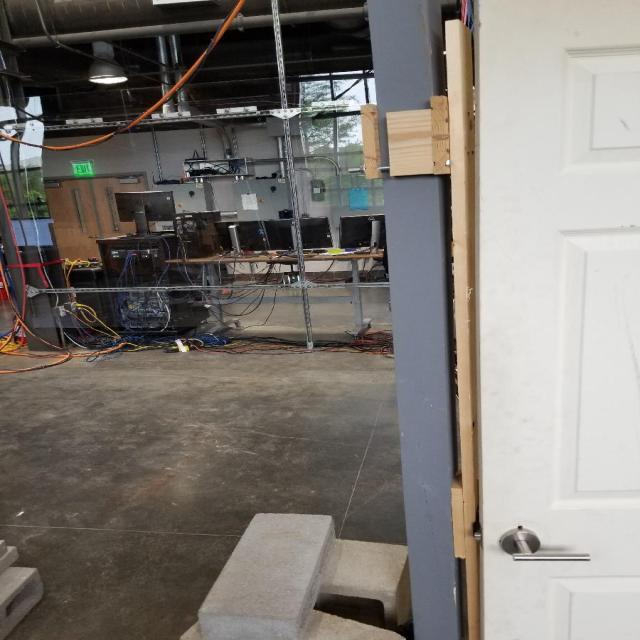door: (495, 526, 596, 568)
